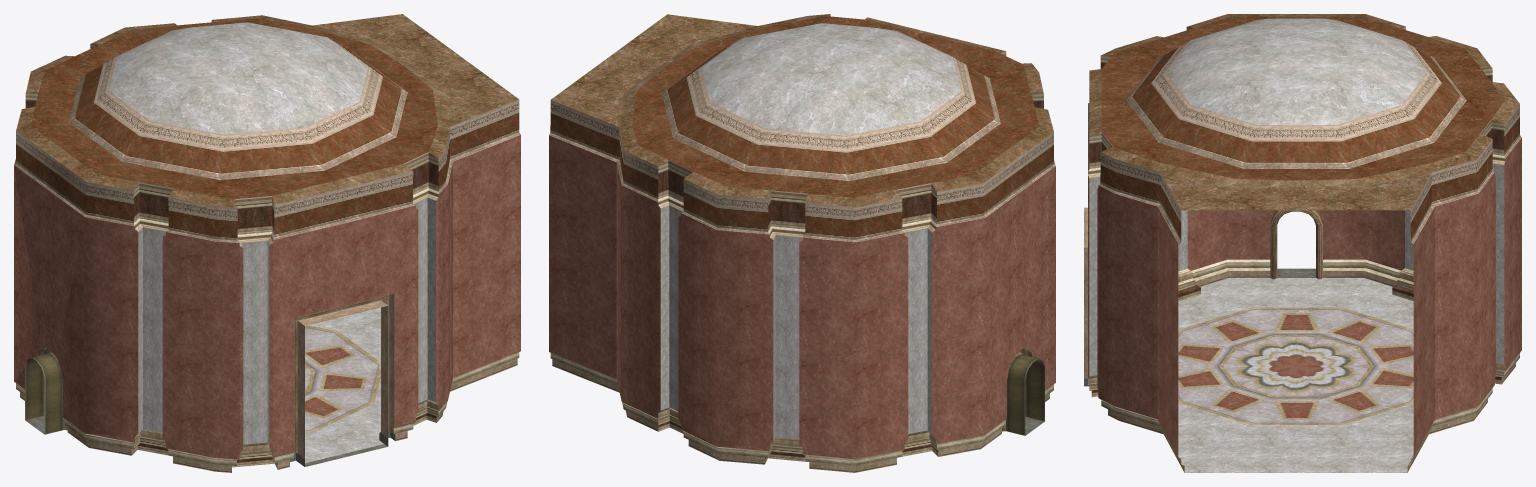
Rendered from thm_nboo_thed_theed_palace_r11_mesh_r11.fbx.
The picture shows the model from 3 angles, left to right: view 1: azimuth 30°, elevation 25°; view 2: azimuth 150°, elevation 25°; view 3: azimuth 270°, elevation 25°; orthographic projection.
Parts seen in each view (by area): view 1: mesh_node; view 2: mesh_node; view 3: mesh_node.
Part boxes in pixels (box(x1,y1,x2,y2)): mesh_node: box(14, 14, 520, 472); mesh_node: box(549, 14, 1055, 472); mesh_node: box(1084, 14, 1521, 472).
Bounding box in the file's own units: 30.65 × 22.63 × 27.77.
